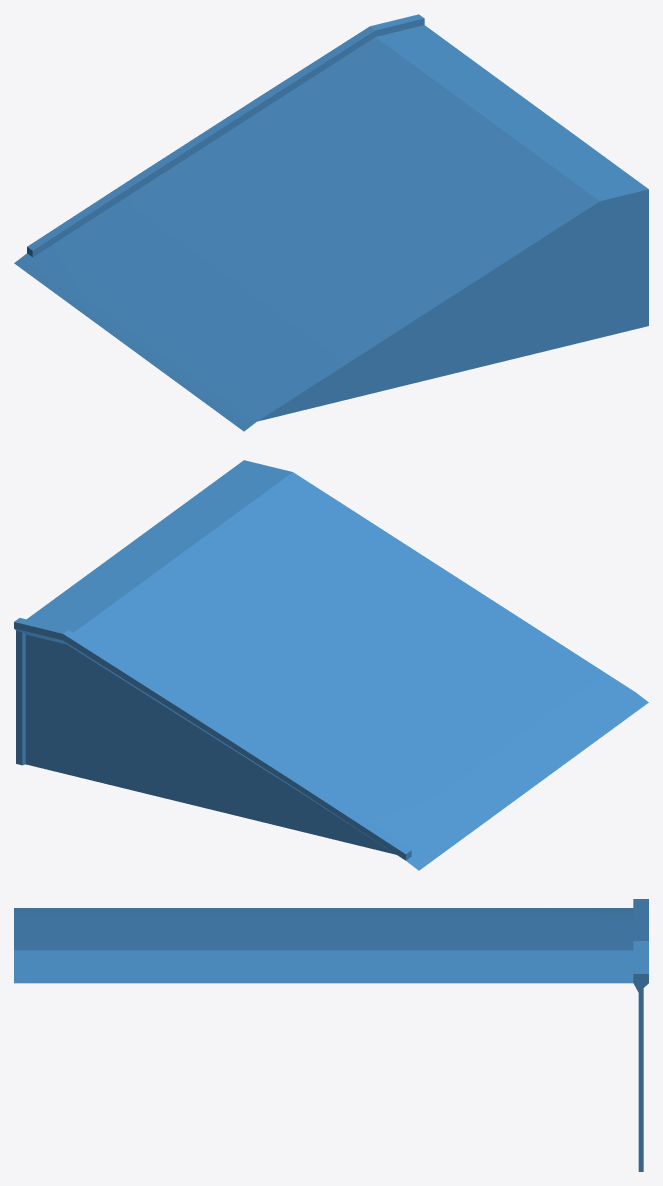
Rendered from Pod_Incline_B.fbx.
3 views of the same model, one above another, from view 1: azimuth 30°, elevation 25°; view 2: azimuth 150°, elevation 25°; view 3: azimuth 270°, elevation 25° (orthographic). The views are drawn at different scales.
Visible parts, largest first — view 1: Pod_Incline_B; view 2: Pod_Incline_B; view 3: Pod_Incline_B.
Part boxes in pixels (left/top/right/bottom): Pod_Incline_B: left=14, top=14, right=648, bottom=431; Pod_Incline_B: left=14, top=460, right=648, bottom=870; Pod_Incline_B: left=14, top=899, right=648, bottom=1171.
Bounding box in the file's own units: 930 × 329 × 915.
